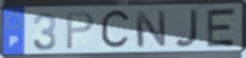3: (32, 11, 58, 51)
C: (99, 7, 133, 53)
E: (204, 6, 238, 48)
J: (173, 8, 200, 49)
N: (133, 9, 169, 49)
P: (65, 10, 96, 51)
